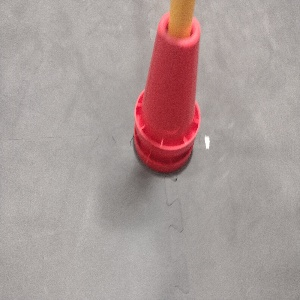Red_2: (133, 9, 201, 172)
